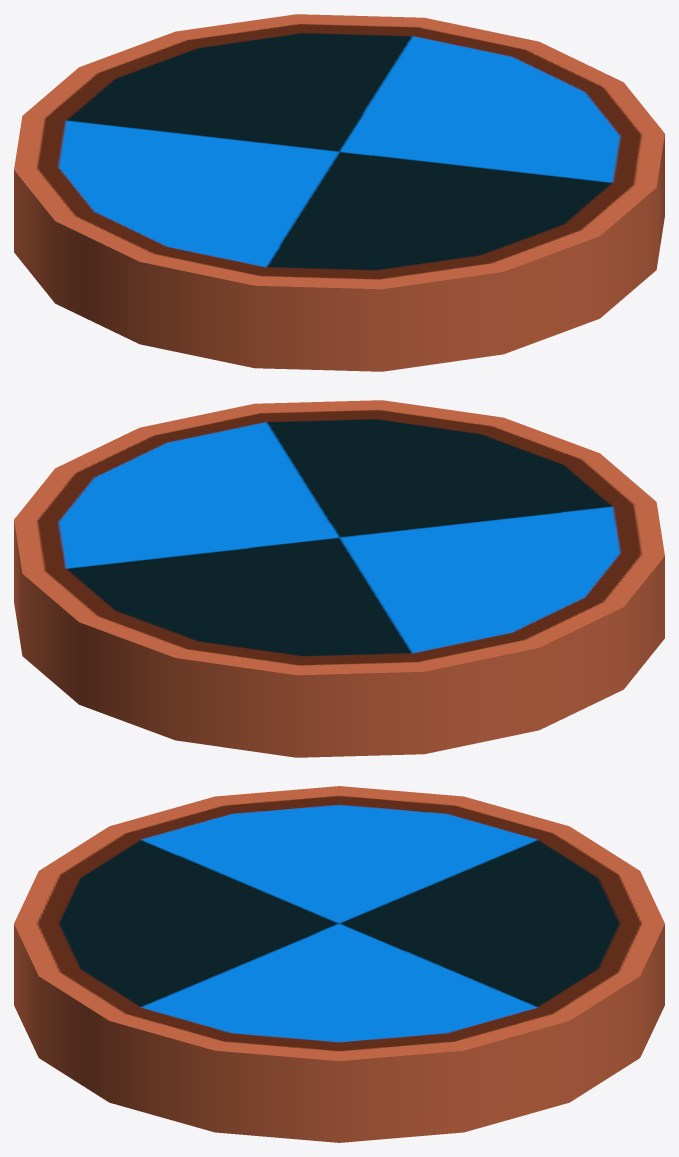
File: puzzle1_btn1_bottom.fbx
3 renders of one model, top to bottom at view 1: azimuth 30°, elevation 25°; view 2: azimuth 150°, elevation 25°; view 3: azimuth 270°, elevation 25°, orthographic.
Visible parts, largest first — view 1: levelBottom; view 2: levelBottom; view 3: levelBottom.
Boxes of the visible parts, x1=… form: levelBottom: x1=14, y1=14, x2=664, y2=371; levelBottom: x1=14, y1=400, x2=664, y2=757; levelBottom: x1=14, y1=786, x2=664, y2=1142.
Bounding box in the file's own units: 2.93 × 0.4059 × 2.93.
